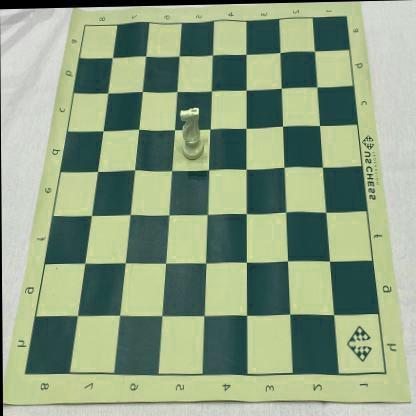white-knight: (180, 106, 204, 160)
